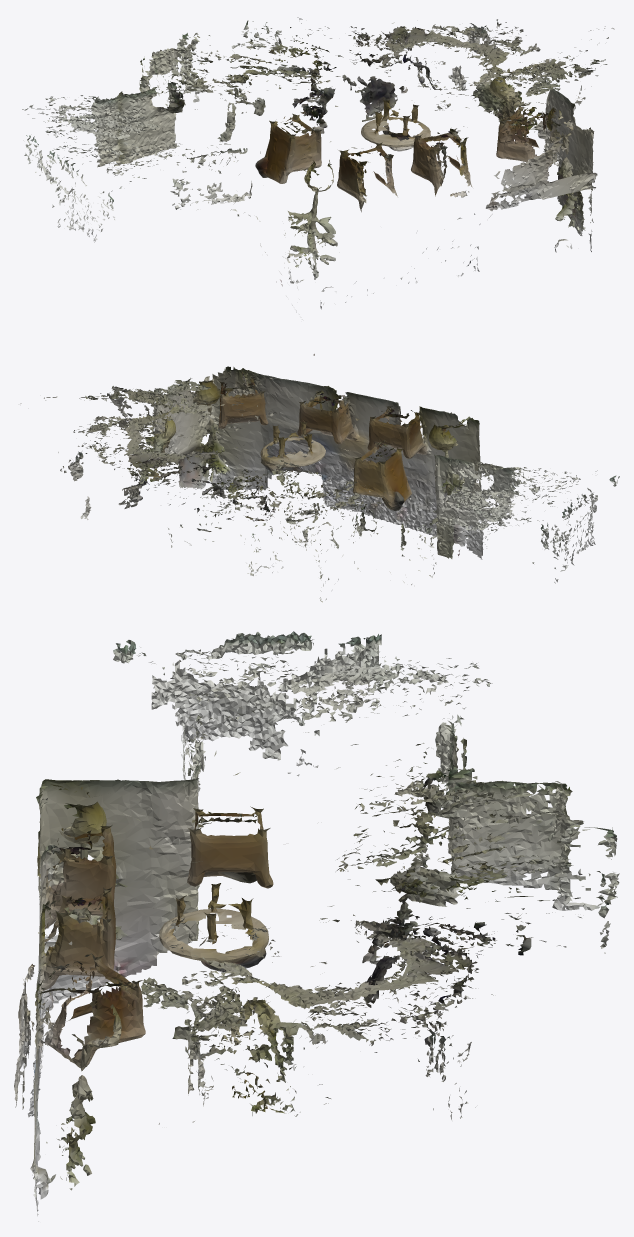
The model's file is OBSERVED-viewable.glb.
3 views of the same model, one above another, from view 1: azimuth 30°, elevation 25°; view 2: azimuth 150°, elevation 25°; view 3: azimuth 270°, elevation 25° (orthographic). The views are drawn at different scales.
Parts seen in each view (by area): view 1: world; view 2: world; view 3: world.
Boxes of the visible parts, bbox=[...] form: world: bbox=[22, 17, 614, 320]; world: bbox=[20, 354, 619, 602]; world: bbox=[14, 631, 619, 1221].
Size of the model in its own units: 10.15 by 3.27 by 5.86.
